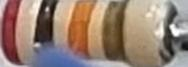Black: (32, 1, 61, 60)
Orange: (65, 1, 100, 59)
Red: (0, 0, 27, 65)
Side-Gold: (100, 0, 131, 63)
